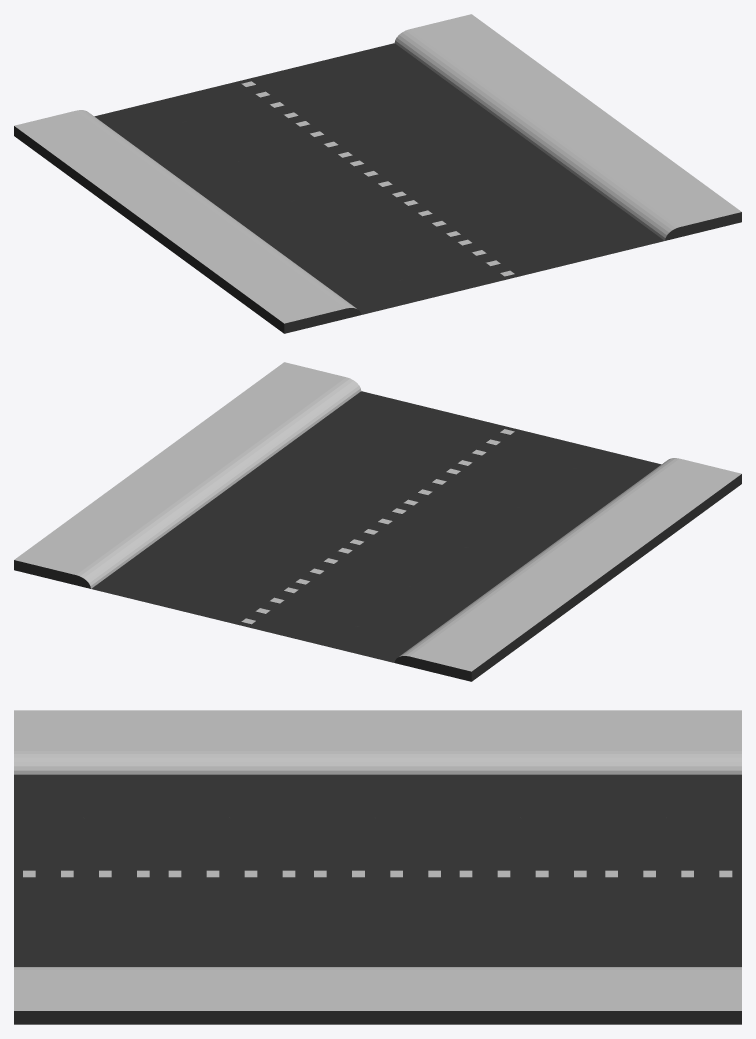
File: RoadSmall.obj
3 views of the same model, one above another, from view 1: azimuth 30°, elevation 25°; view 2: azimuth 150°, elevation 25°; view 3: azimuth 270°, elevation 25° (orthographic). The views are drawn at different scales.
Visible parts, largest first — view 1: Plane.019_Plane.021_Material.004, Plane.019_Plane.021_Material.003; view 2: Plane.019_Plane.021_Material.004, Plane.019_Plane.021_Material.003; view 3: Plane.019_Plane.021_Material.004, Plane.019_Plane.021_Material.003.
Boxes of the visible parts, x1,y1,x2,y2 form: Plane.019_Plane.021_Material.004: [14, 43, 741, 333]; Plane.019_Plane.021_Material.003: [14, 14, 741, 323]; Plane.019_Plane.021_Material.004: [14, 391, 741, 681]; Plane.019_Plane.021_Material.003: [14, 362, 741, 671]; Plane.019_Plane.021_Material.004: [14, 774, 741, 1024]; Plane.019_Plane.021_Material.003: [14, 710, 741, 1010].
Bounding box in the file's own units: 3.01 × 0.0645 × 3.08.
2 materials, 2 textured.
